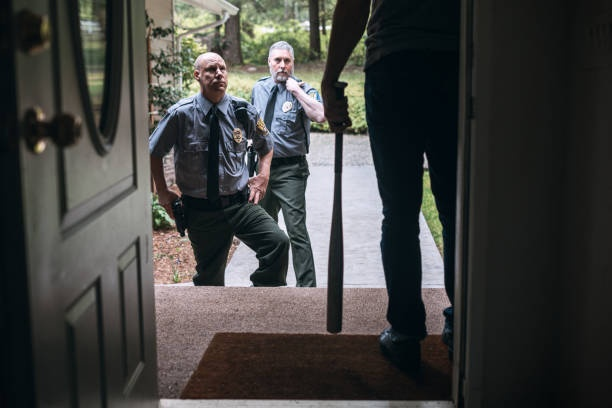bita: (319, 88, 350, 330)
